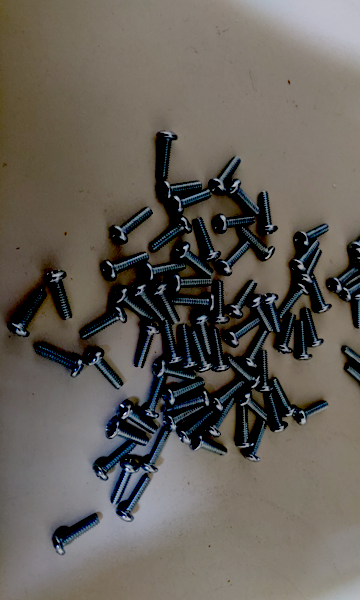shortscrew: (52, 515, 100, 556), (8, 289, 48, 337), (92, 442, 136, 482), (35, 344, 86, 378), (115, 476, 150, 524), (80, 305, 128, 340), (85, 348, 124, 390), (110, 207, 153, 244), (112, 286, 154, 323), (150, 216, 193, 252), (101, 252, 149, 282), (45, 270, 73, 320), (117, 400, 158, 434), (131, 283, 166, 322), (111, 458, 140, 505), (175, 243, 215, 277), (209, 155, 242, 196), (178, 409, 214, 446), (217, 239, 252, 277), (134, 323, 162, 370), (239, 226, 275, 262), (151, 282, 181, 325), (139, 375, 167, 421), (104, 418, 149, 446), (226, 179, 261, 215), (164, 404, 206, 433), (168, 189, 213, 216), (161, 379, 206, 406), (165, 388, 211, 414), (141, 430, 168, 474), (211, 380, 247, 413), (226, 356, 262, 389), (227, 280, 258, 318), (195, 217, 221, 262), (242, 419, 269, 462), (277, 283, 309, 319), (207, 397, 235, 438), (272, 377, 300, 418), (241, 330, 269, 370), (189, 329, 215, 372), (295, 248, 323, 287), (247, 295, 275, 334), (161, 319, 185, 364), (225, 318, 261, 348), (156, 131, 178, 179), (190, 312, 214, 356), (290, 240, 320, 275), (152, 359, 197, 382), (140, 262, 187, 283), (301, 308, 325, 349), (190, 432, 229, 457), (158, 180, 202, 202), (169, 273, 213, 295), (295, 224, 331, 249), (180, 324, 200, 369), (275, 313, 296, 355), (214, 214, 256, 235), (211, 328, 231, 372), (172, 293, 217, 312), (268, 392, 288, 434), (236, 405, 255, 449), (328, 267, 360, 293), (293, 402, 329, 425), (260, 190, 278, 235), (212, 281, 230, 325), (294, 321, 313, 361), (264, 293, 283, 333), (259, 351, 275, 392), (342, 346, 360, 375), (345, 365, 360, 394), (348, 227, 360, 256), (352, 237, 360, 271), (353, 291, 360, 329)
